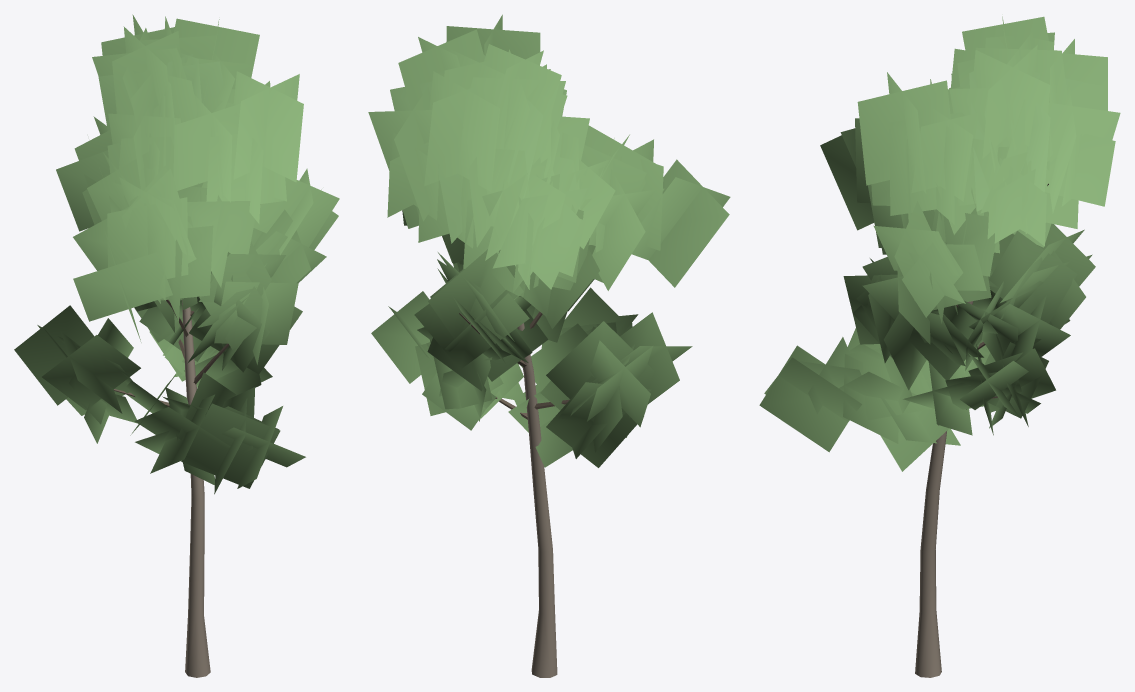
The model's file is tree_birch_b_lod0.glb.
3 renders of one model, left to right at view 1: azimuth 30°, elevation 25°; view 2: azimuth 150°, elevation 25°; view 3: azimuth 270°, elevation 25°, orthographic. The views are drawn at different scales.
Parts seen in each view (by area): view 1: tree_birch_b_lod0; view 2: tree_birch_b_lod0; view 3: tree_birch_b_lod0.
Boxes of the visible parts, x1,y1,x2,y2 form: tree_birch_b_lod0: (14,14,339,677); tree_birch_b_lod0: (368,14,730,677); tree_birch_b_lod0: (759,16,1120,677).
Size of the model in its own units: 6.35 by 13.21 by 6.68.
